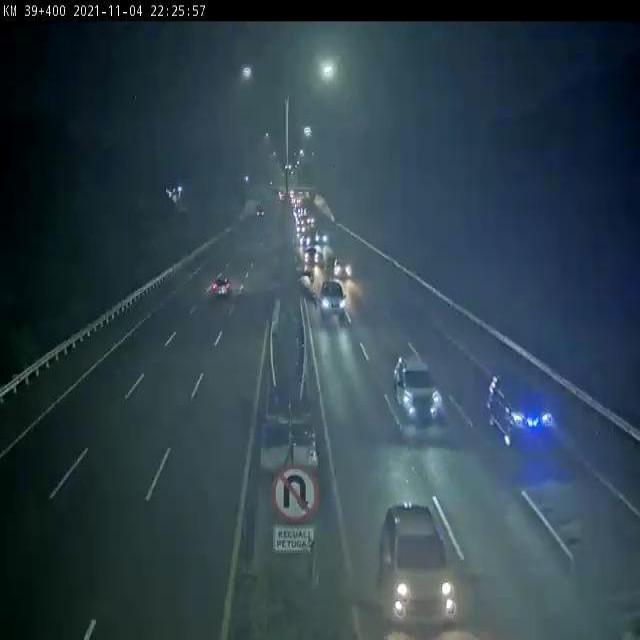car: (378, 504, 456, 624), (489, 374, 554, 450), (395, 357, 443, 423), (320, 282, 346, 322), (334, 257, 352, 279), (214, 277, 231, 295), (305, 248, 319, 264), (315, 230, 329, 242), (300, 236, 312, 248), (298, 224, 306, 232)
